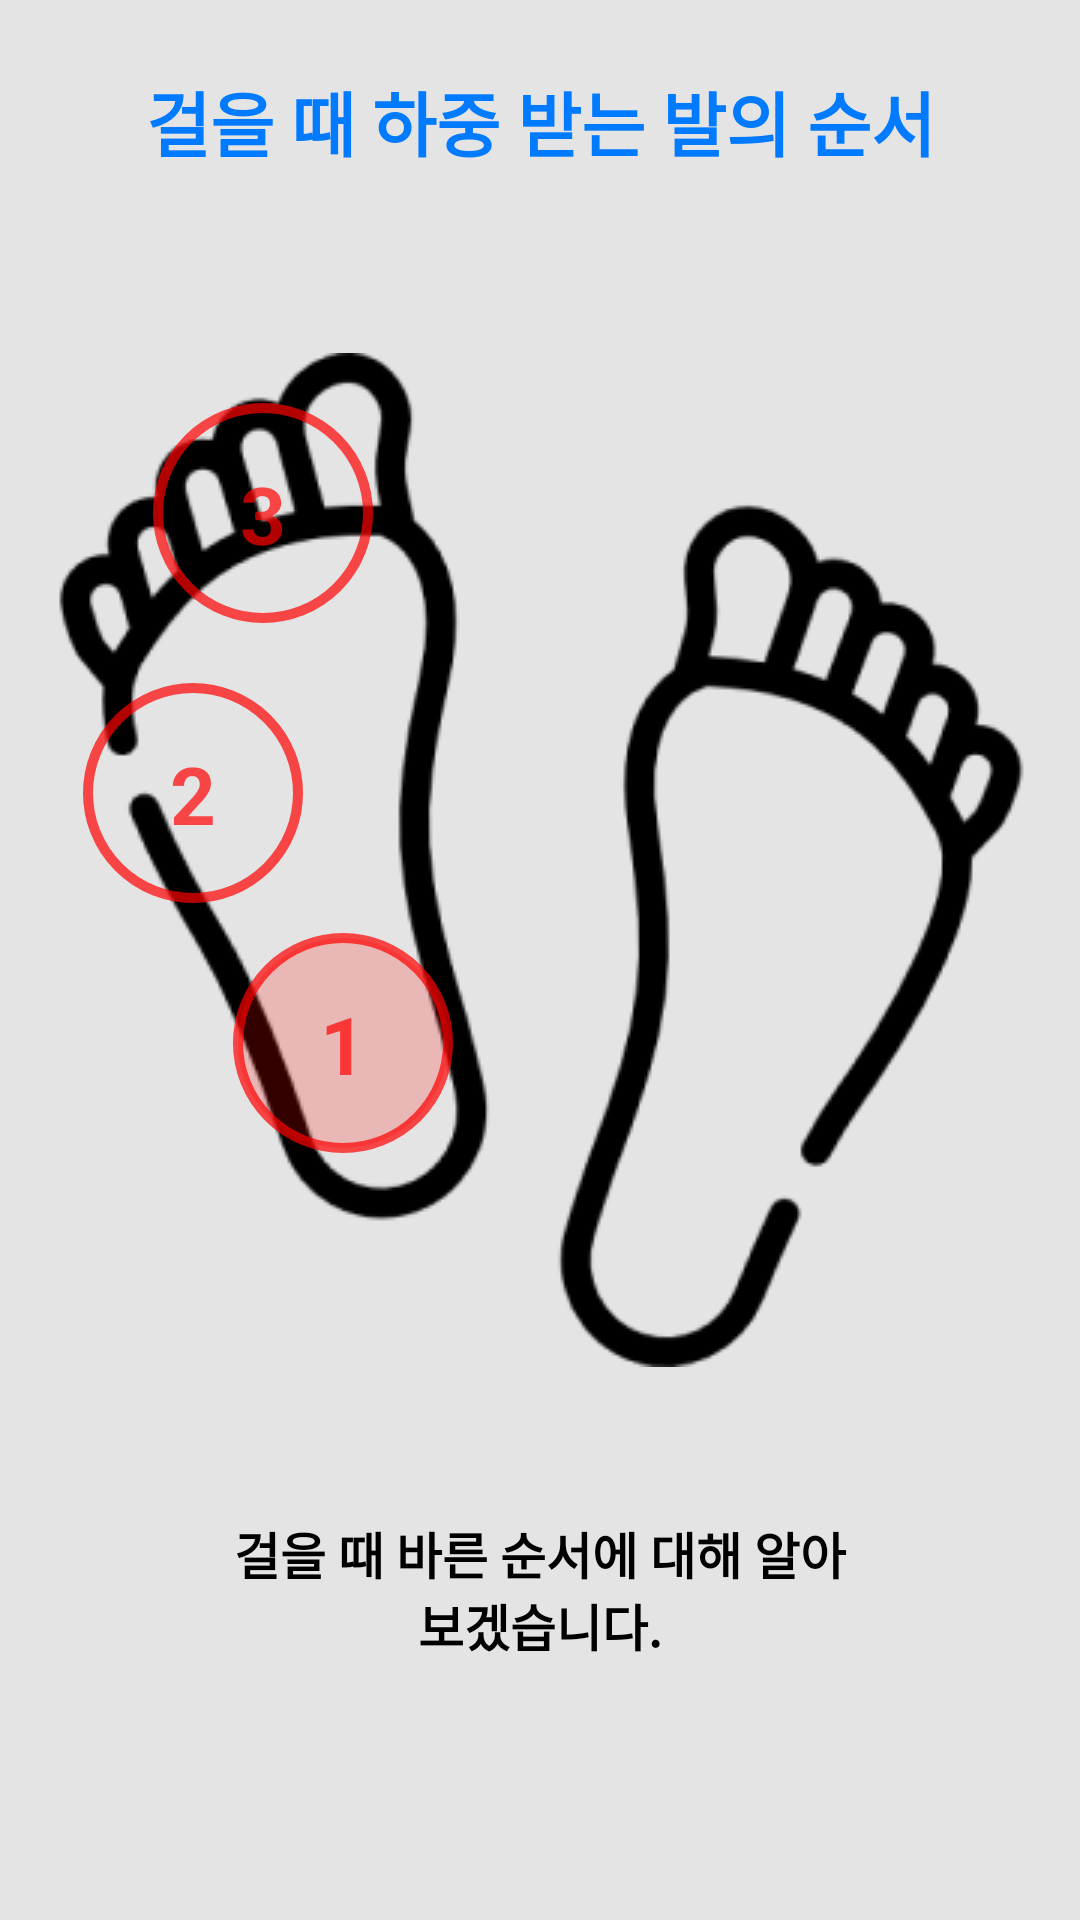

Named icons in this screenshot (1080*1920) and their bounding boxes, rect(x1, y1, x2, y2):
tutorial circle: rect(153, 403, 373, 623), rect(83, 683, 303, 903)
tutorial circle checked: rect(233, 933, 453, 1153)
